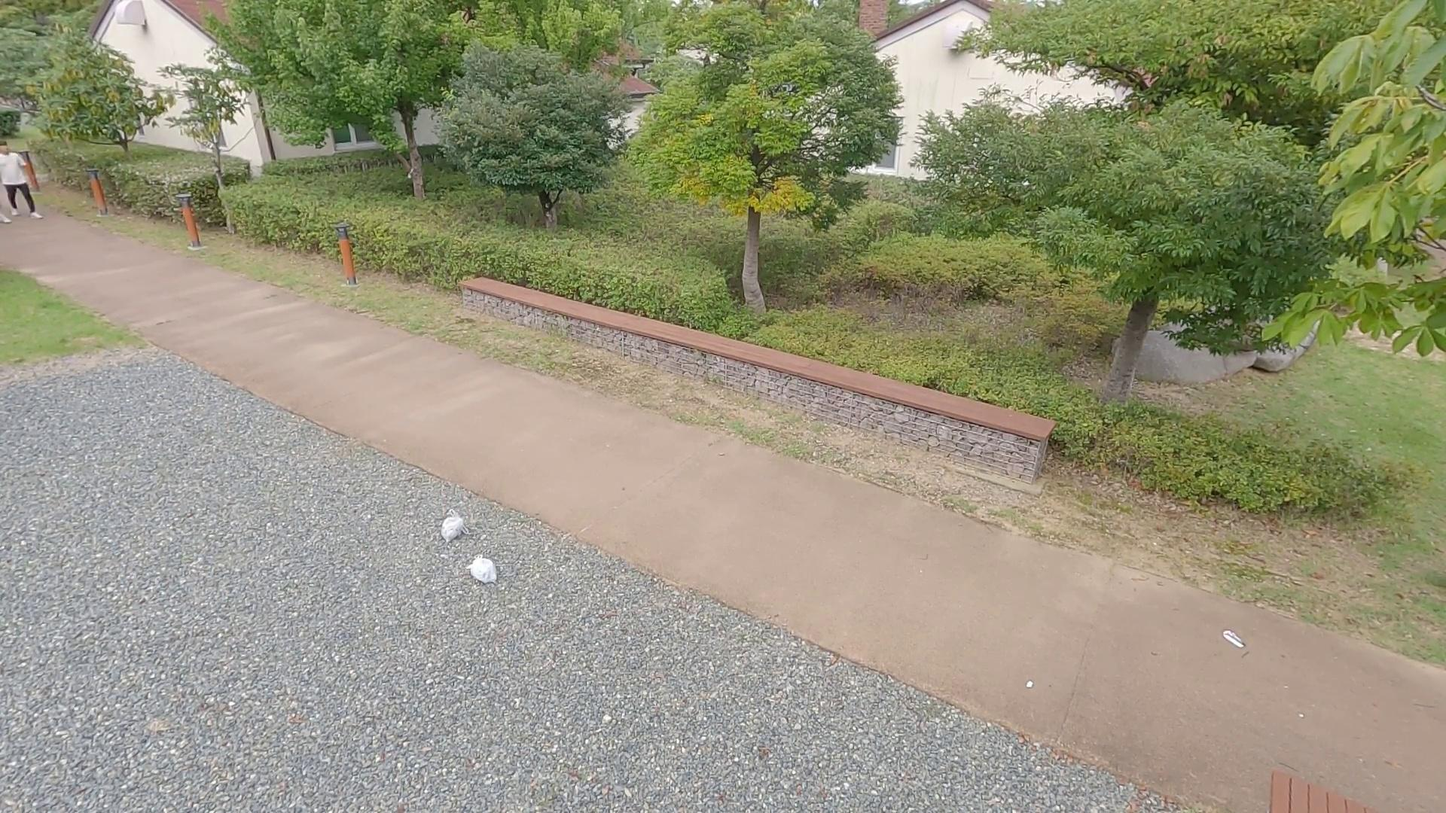person: (0, 139, 51, 224)
trash: (462, 544, 506, 596), (435, 506, 476, 547)
